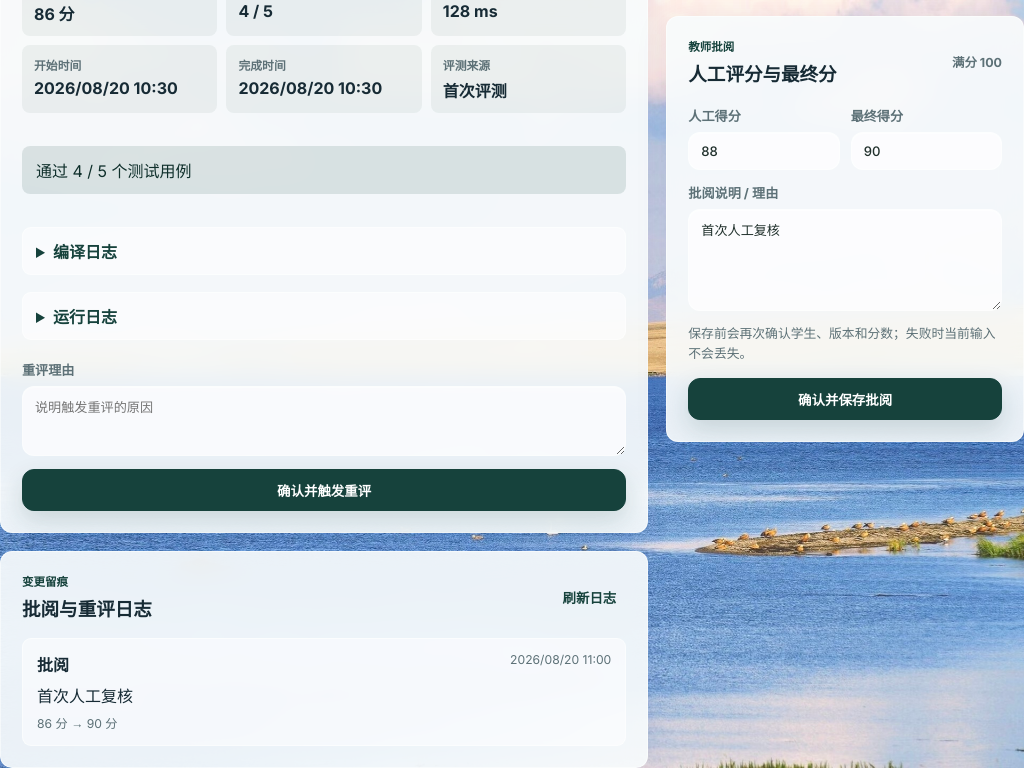
it: HomeworkSubmissionReviewView › retains the rejudge reason and review content when reevaluation fails
(page scrolled)
Type "保留重评原因" into the text box named "reevaluationReason" at (324, 421), box [22,386,626,456]
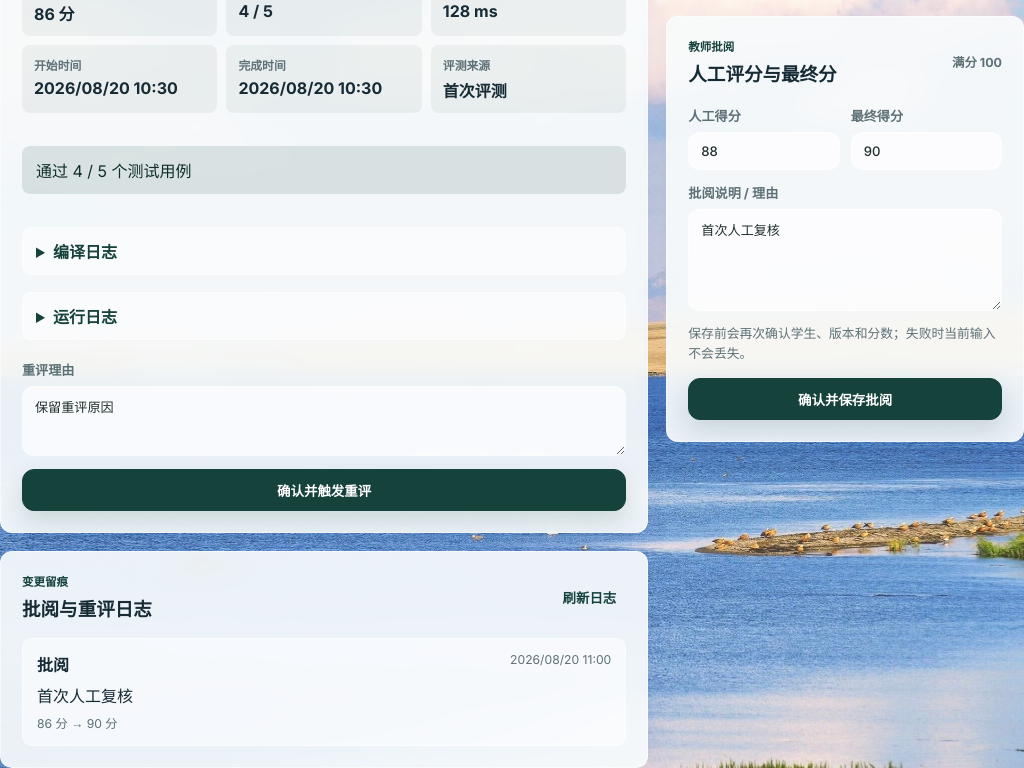
Submit the form "重评理由 确认并触发重评", box [22,357,626,511]
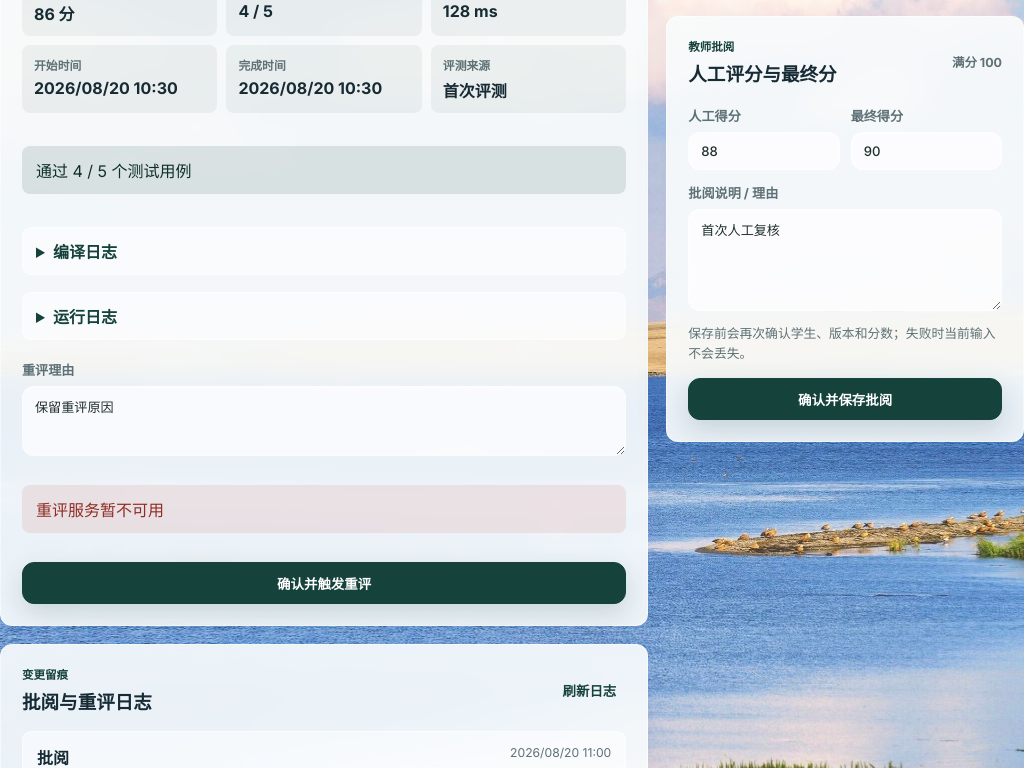
Expected: the button "确认并触发重评" is enabled, [22,562,626,604]
Expected: the message with test id "reevaluation-error" reads "重评服务暂不可用", [36,500,164,520]
